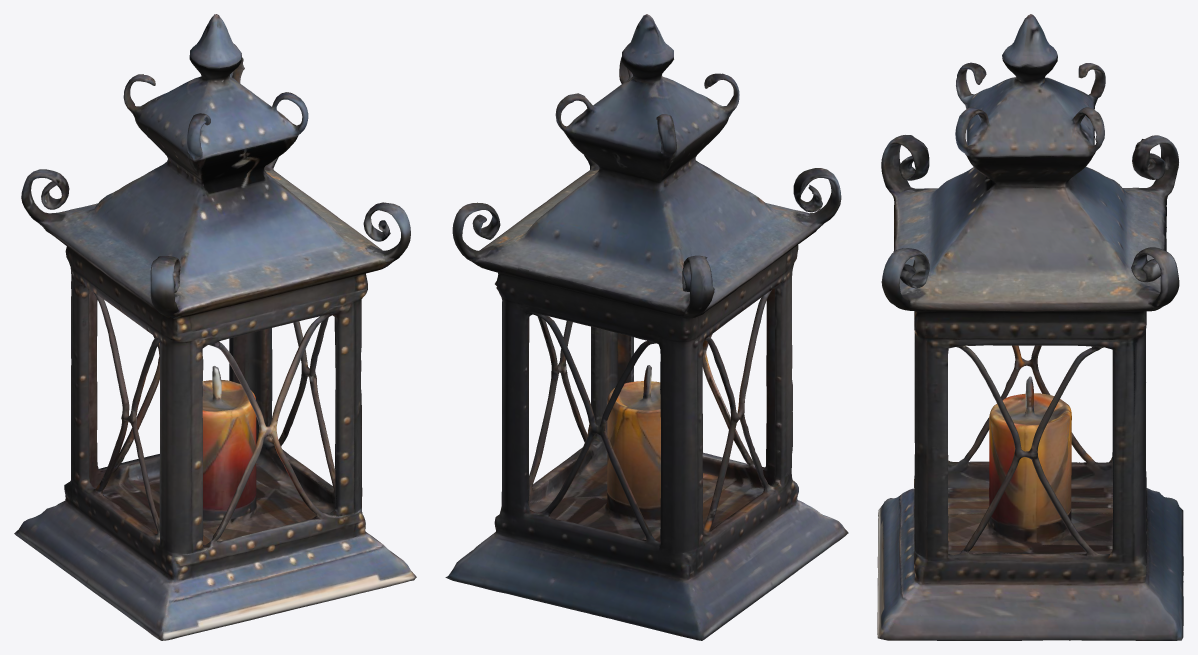
Rendered from Littlelight.fbx.
The picture shows the model from 3 angles, left to right: view 1: azimuth 30°, elevation 25°; view 2: azimuth 150°, elevation 25°; view 3: azimuth 270°, elevation 25°; orthographic projection. The views are drawn at different scales.
Visible parts, largest first — view 1: light_3; view 2: light_3; view 3: light_3.
Part boxes in pixels (box(x1,y1,x2,y2)): light_3: box(14, 14, 416, 640); light_3: box(445, 14, 848, 640); light_3: box(877, 14, 1183, 640).
Bounding box in the file's own units: 99.89 × 199 × 98.32.
1 material, 1 textured.
